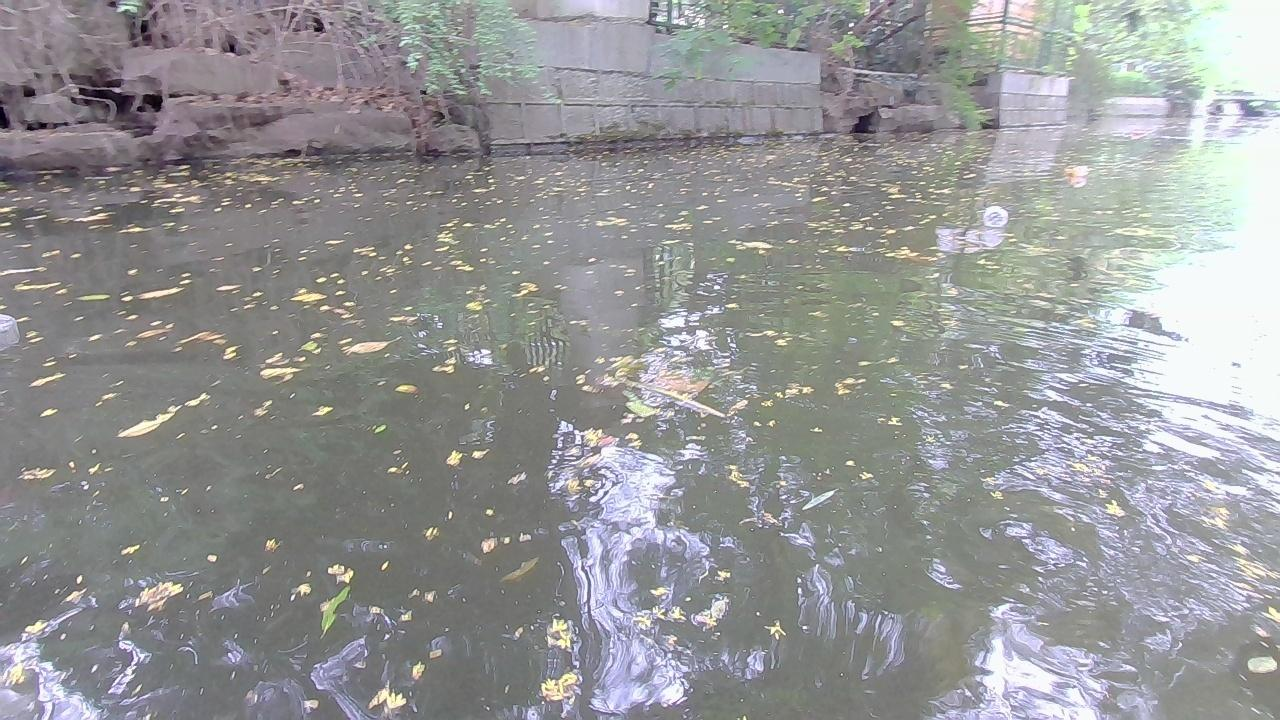bottle: (983, 204, 1008, 225), (1062, 164, 1094, 178)
